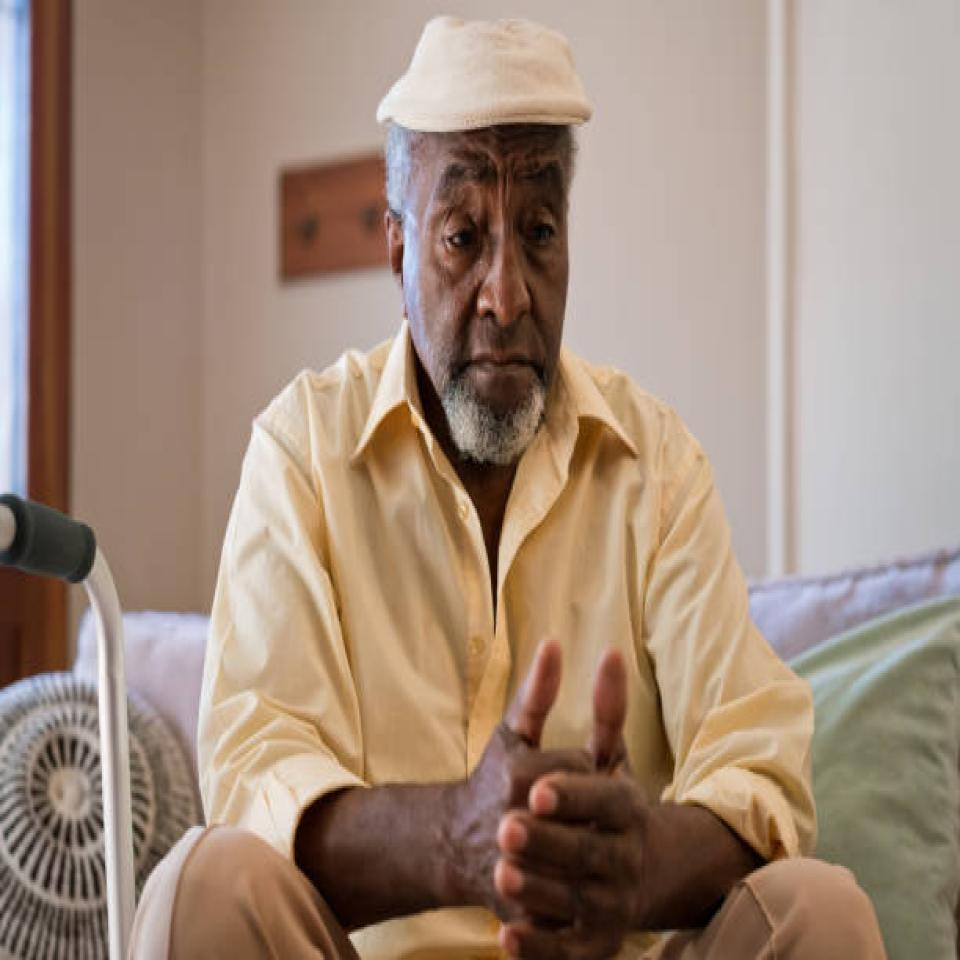Sadness: (387, 123, 568, 461)
